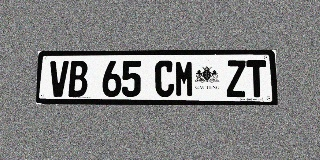5: (122, 61, 141, 97)
6: (102, 61, 122, 97)
B: (68, 61, 88, 97)
C: (155, 60, 174, 97)
M: (175, 60, 194, 97)
T: (246, 60, 267, 97)
V: (49, 61, 69, 97)
Z: (226, 60, 246, 97)
